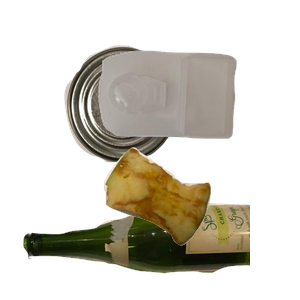glass: (21, 201, 261, 300)
metal: (62, 43, 232, 198)
plastic: (96, 48, 300, 179)
trash: (101, 145, 300, 300)
